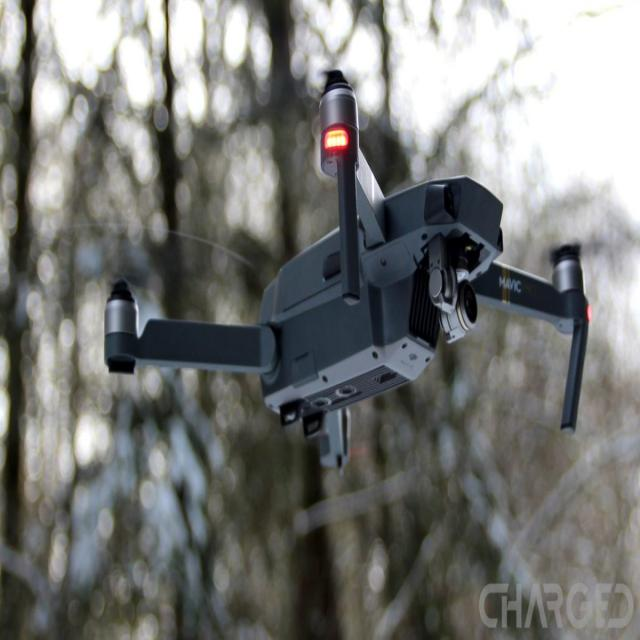drone: (85, 10, 609, 481)
